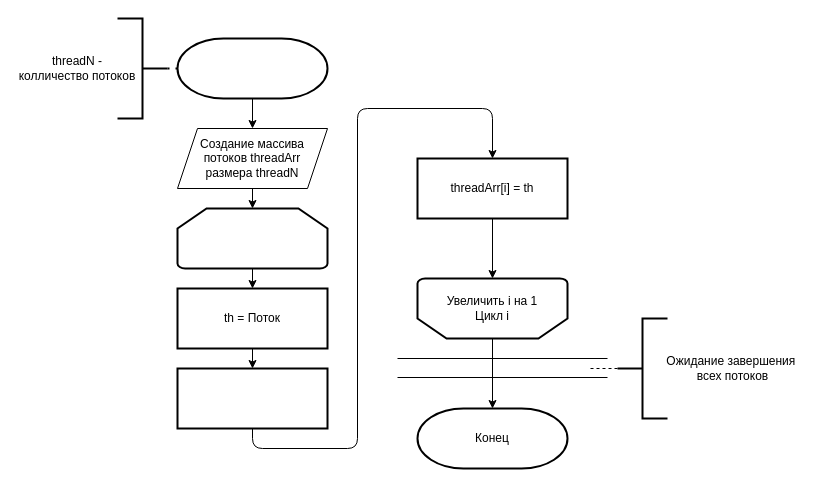
This 824x486 diagram has some shape labels left out. The shapes that lost their labels are listed below. From the top down, each one's box as (x1, y1, x2, y2) in pixels, then its label:
(176, 37, 328, 99): Начало
(176, 207, 328, 269): Цикл от i = 0 до threadN
(176, 367, 328, 429): Запустить th
